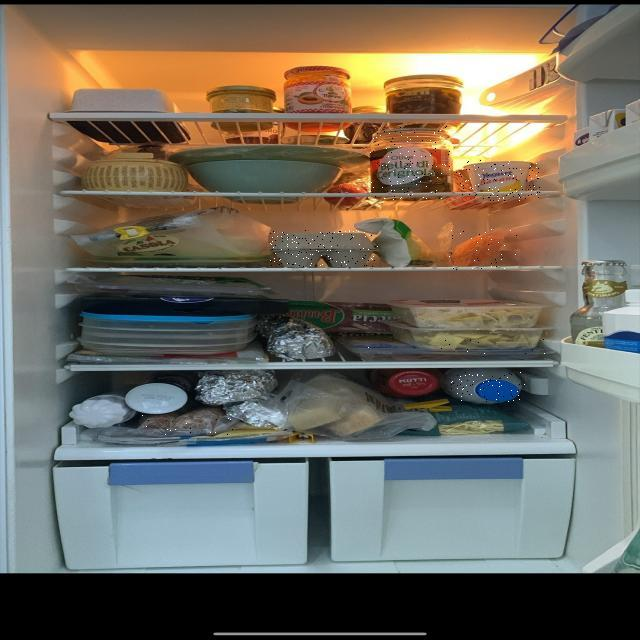carrots: (449, 228, 520, 270)
eggs: (270, 230, 378, 267)
ham: (348, 339, 556, 357), (135, 415, 238, 435)
milk: (451, 372, 525, 405)
olive: (370, 127, 450, 200)
yoghurt: (456, 160, 540, 202)
